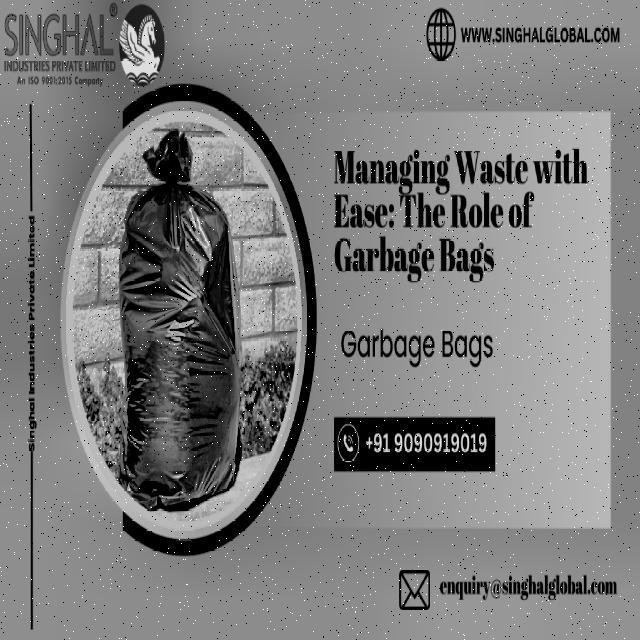Trashbag: (104, 126, 256, 518)
